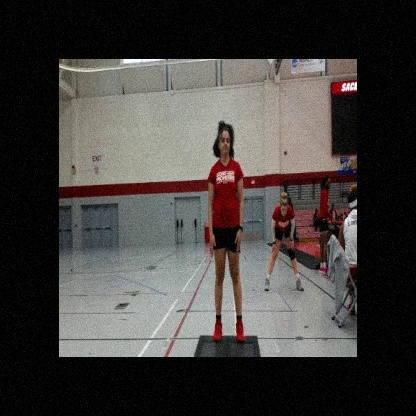lateral_flexion_normal: (206, 119, 249, 346)
stance_width_narrow: (206, 157, 248, 346)
